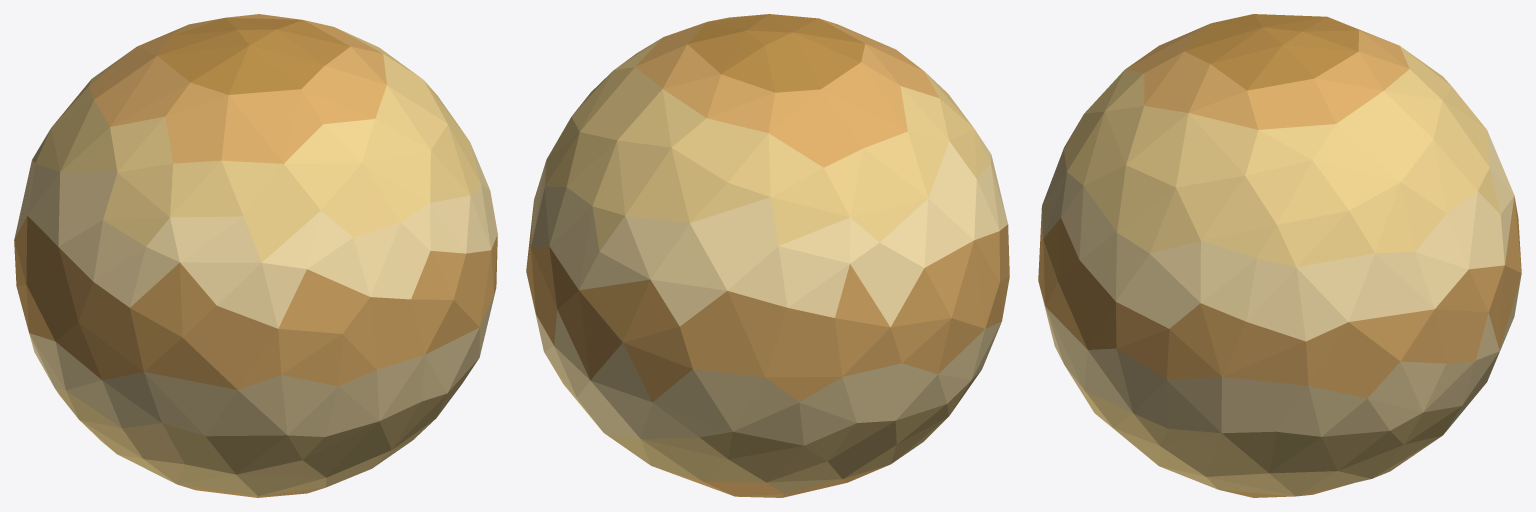
The model's file is gasGiant.fbx.
3 views of the same model, side by side, from view 1: azimuth 30°, elevation 25°; view 2: azimuth 150°, elevation 25°; view 3: azimuth 270°, elevation 25° (orthographic).
Parts seen in each view (by area): view 1: GasGiant; view 2: GasGiant; view 3: GasGiant.
Boxes of the visible parts, x1,y1,x2,y2 form: GasGiant: [14, 14, 497, 497]; GasGiant: [526, 14, 1009, 497]; GasGiant: [1038, 14, 1521, 497].
Bounding box in the file's own units: 978 × 987 × 978.
1 material, 1 textured.
